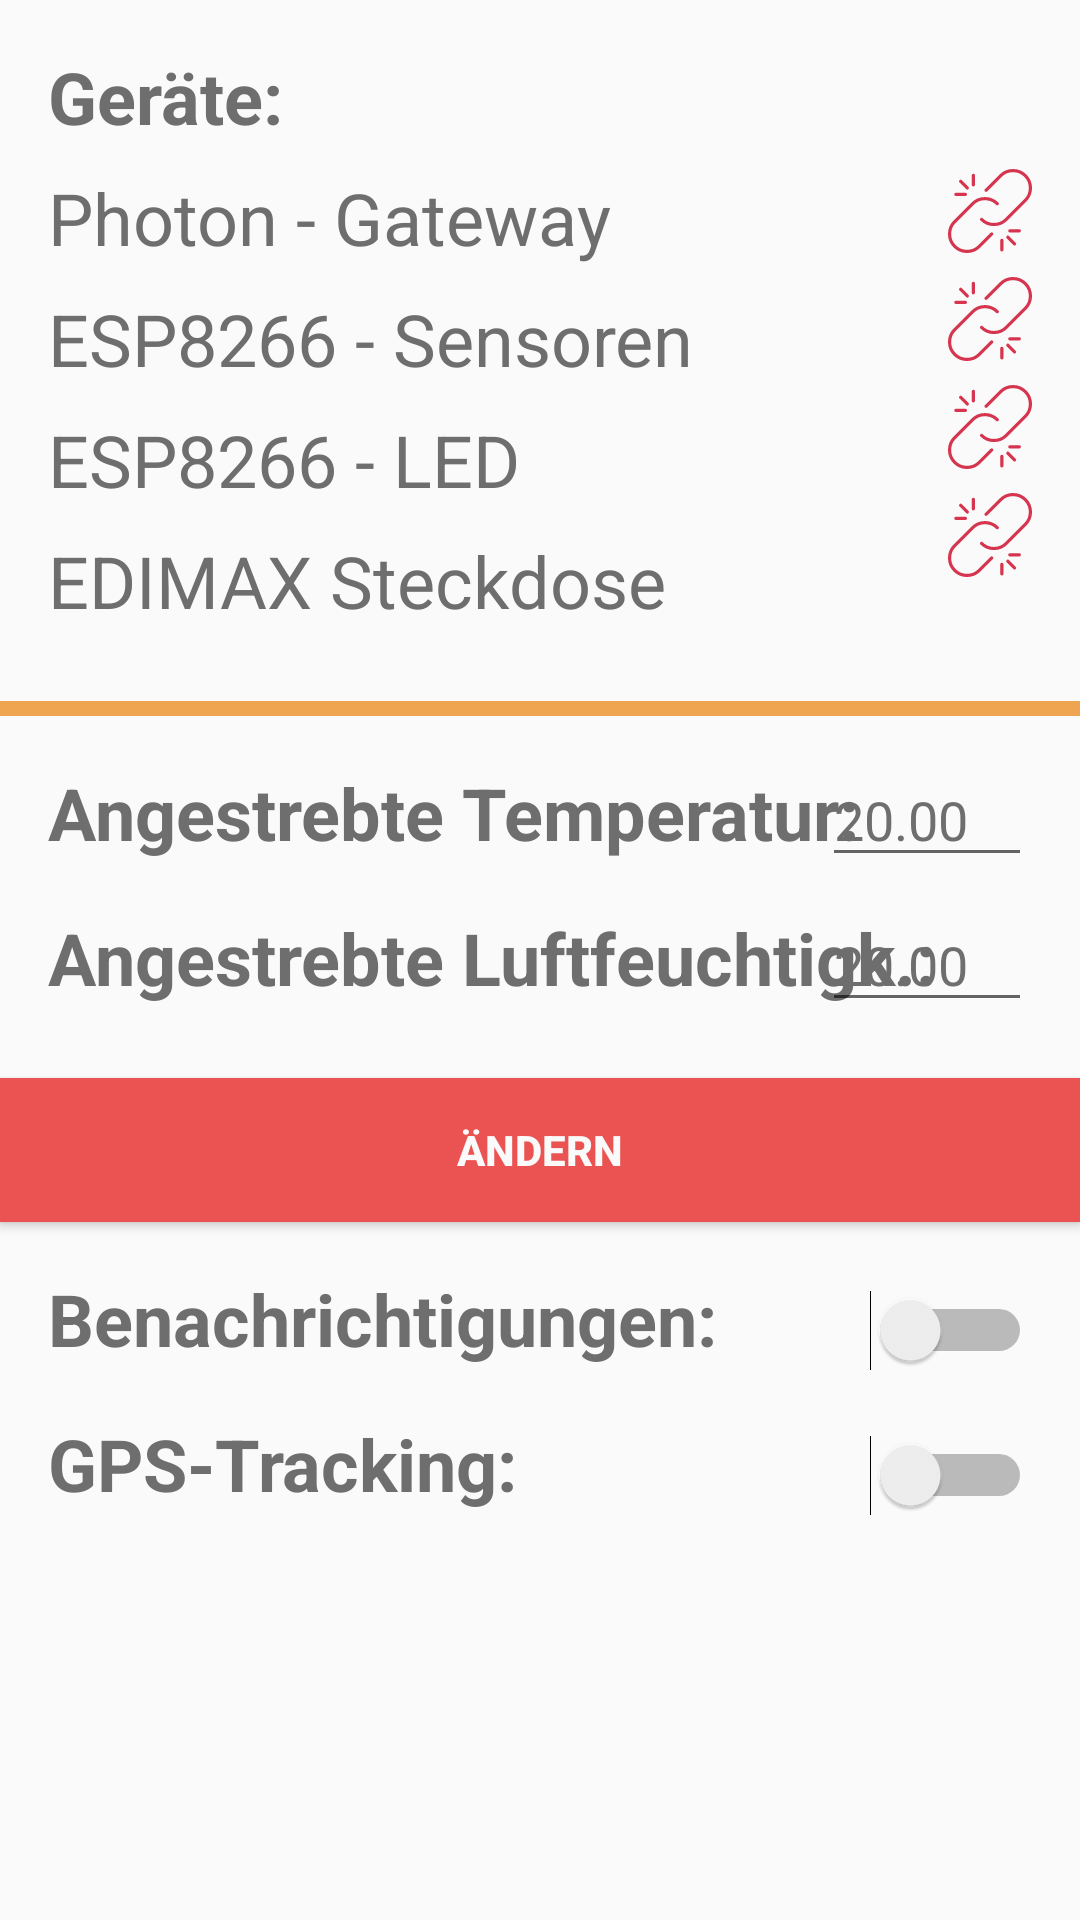

Where icons sit on this 1080px×1920px app screen, as (x1, y1, x2, y2):
broken link: (948, 169, 1032, 253), (948, 277, 1032, 361), (948, 385, 1032, 469), (948, 493, 1032, 577)
